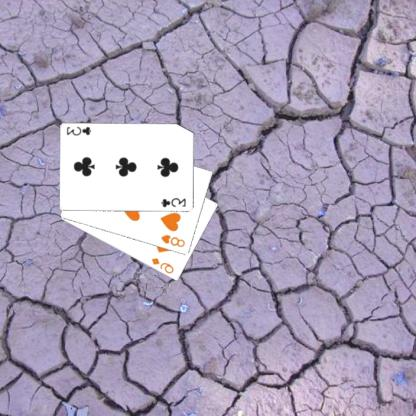3C: (160, 196, 189, 209), (66, 124, 95, 137)
8H: (159, 232, 188, 249)
9D: (150, 256, 176, 276)
